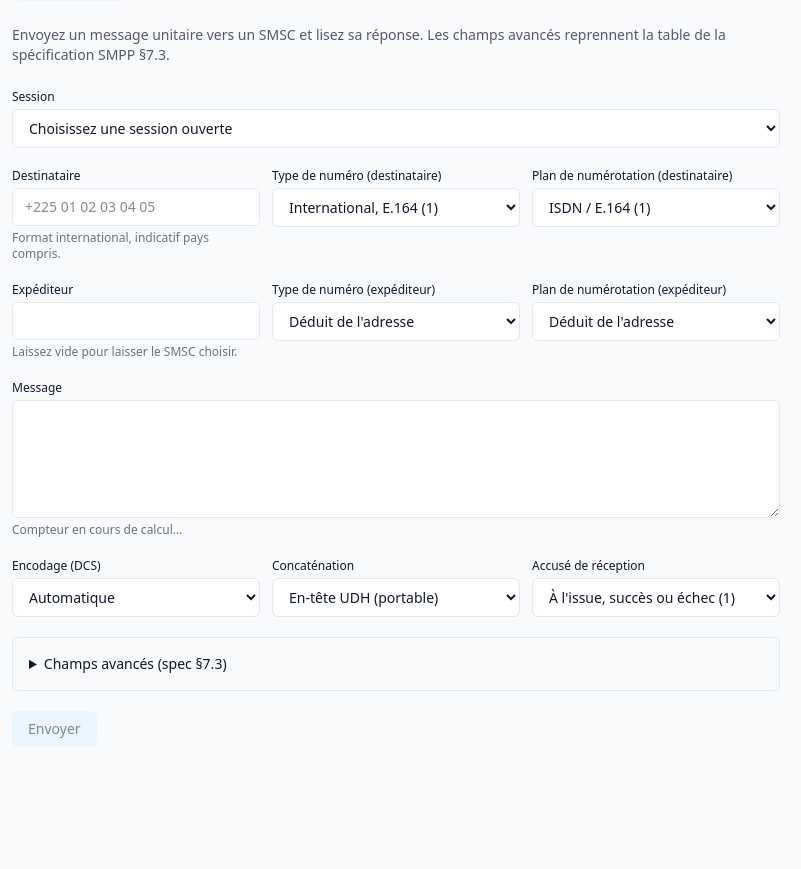
Test case: Send › Simple › warns when the message was sent but could not be recorded
Select "Operator A — smsc.example.test:2775" in the dropdown labelled "Session" at (396, 128), box x1=12 y1=109 x2=780 y2=148
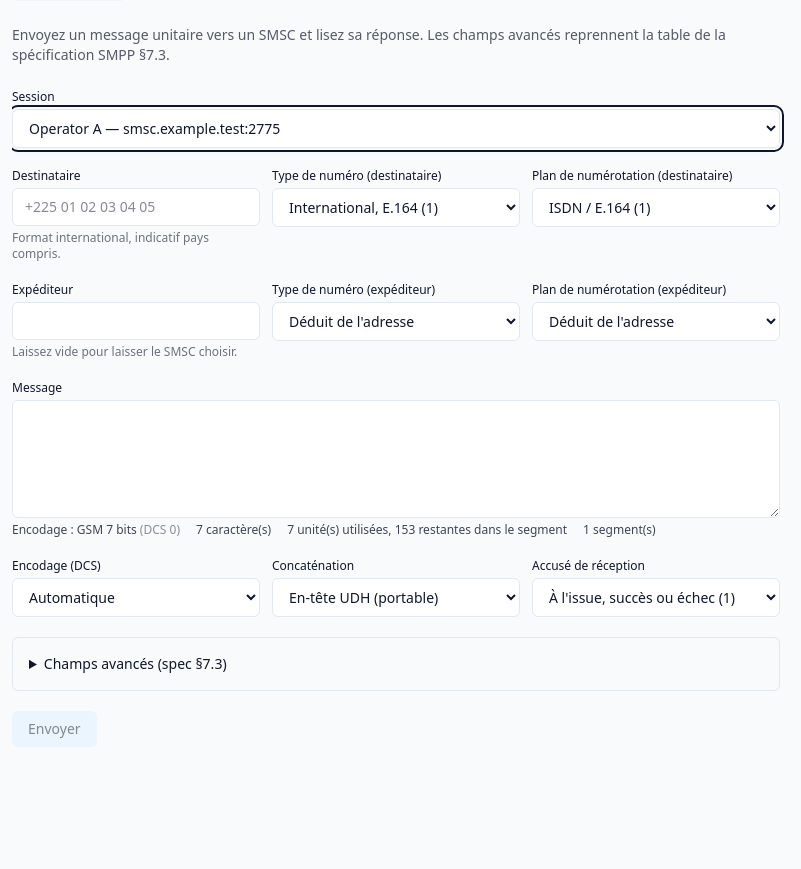
Type "+2250102030405" into the field labelled "Destinataire" at (136, 207), box x1=12 y1=188 x2=260 y2=226
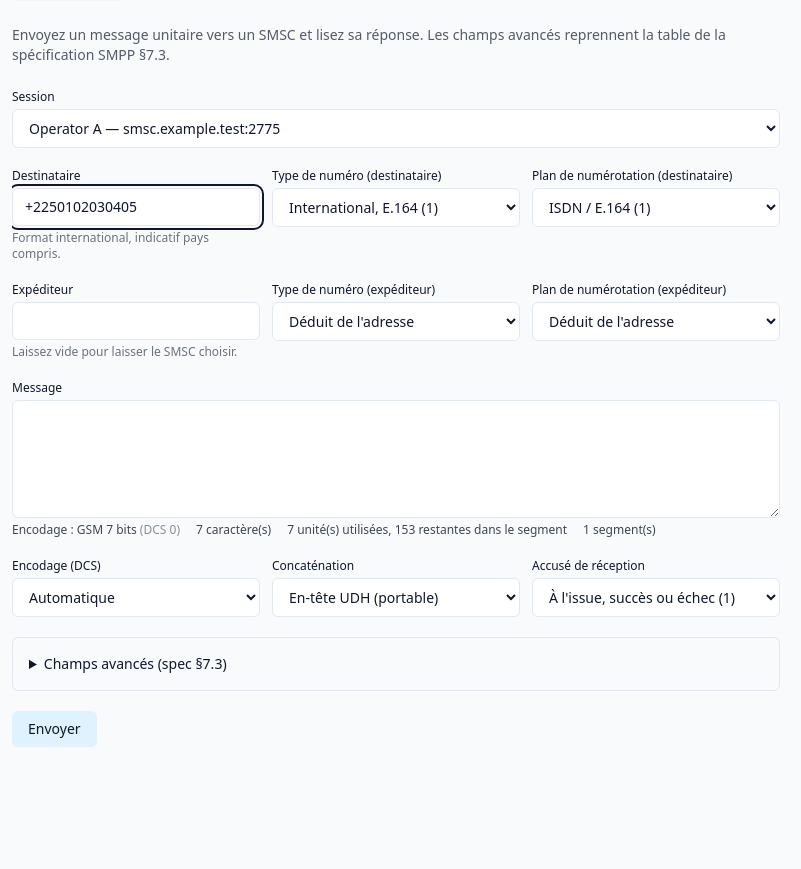
Click the button "Envoyer" at (54, 729), box x1=12 y1=711 x2=97 y2=747
(page scrolled)
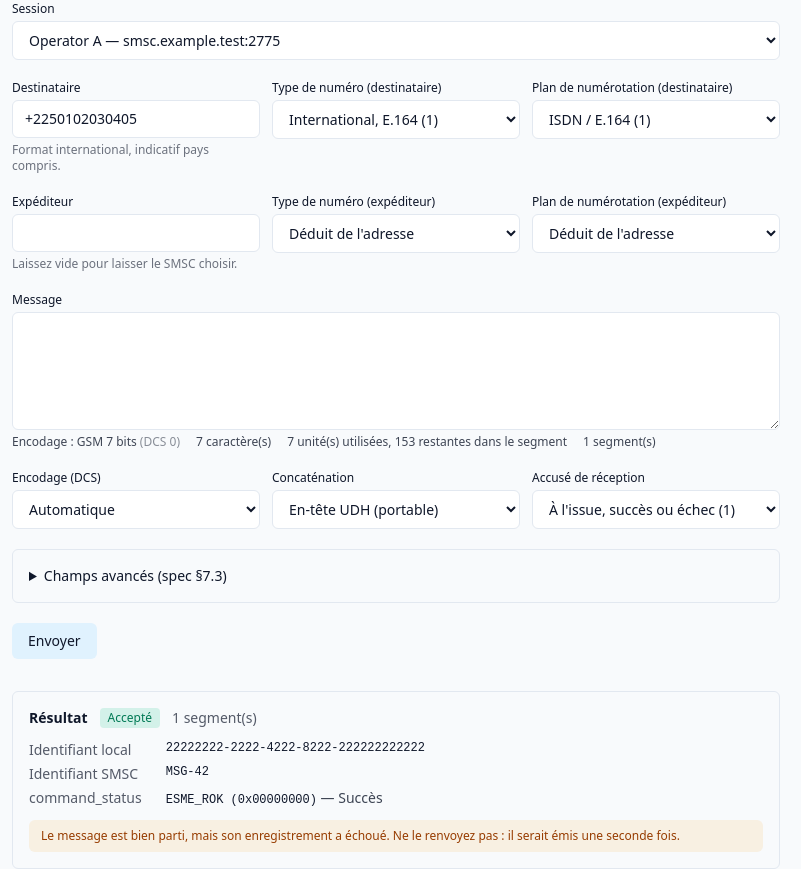
Now the text "Le message est bien parti, mais son enregistrement a échoué. Ne le renvoyez pas : il serait émis une seconde fois." is shown, box x1=41 y1=827 x2=680 y2=844
